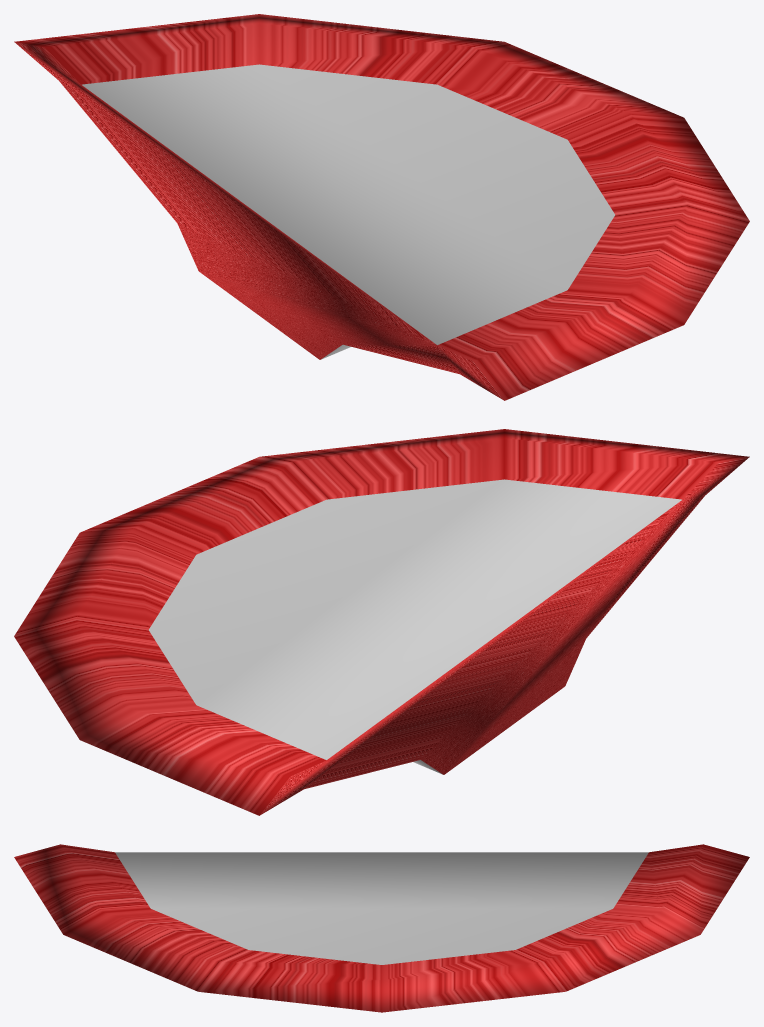
File: wallShroomhalf.fbx
3 renders of one model, top to bottom at view 1: azimuth 30°, elevation 25°; view 2: azimuth 150°, elevation 25°; view 3: azimuth 270°, elevation 25°, orthographic. The views are drawn at different scales.
Visible parts, largest first — view 1: Cylinder; view 2: Cylinder; view 3: Cylinder.
Boxes of the visible parts, <box> form: Cylinder: <box>14,14,749,400</box>; Cylinder: <box>14,429,749,815</box>; Cylinder: <box>14,844,749,1012</box>.
Size of the model in its own units: 242 by 60.46 by 483.
